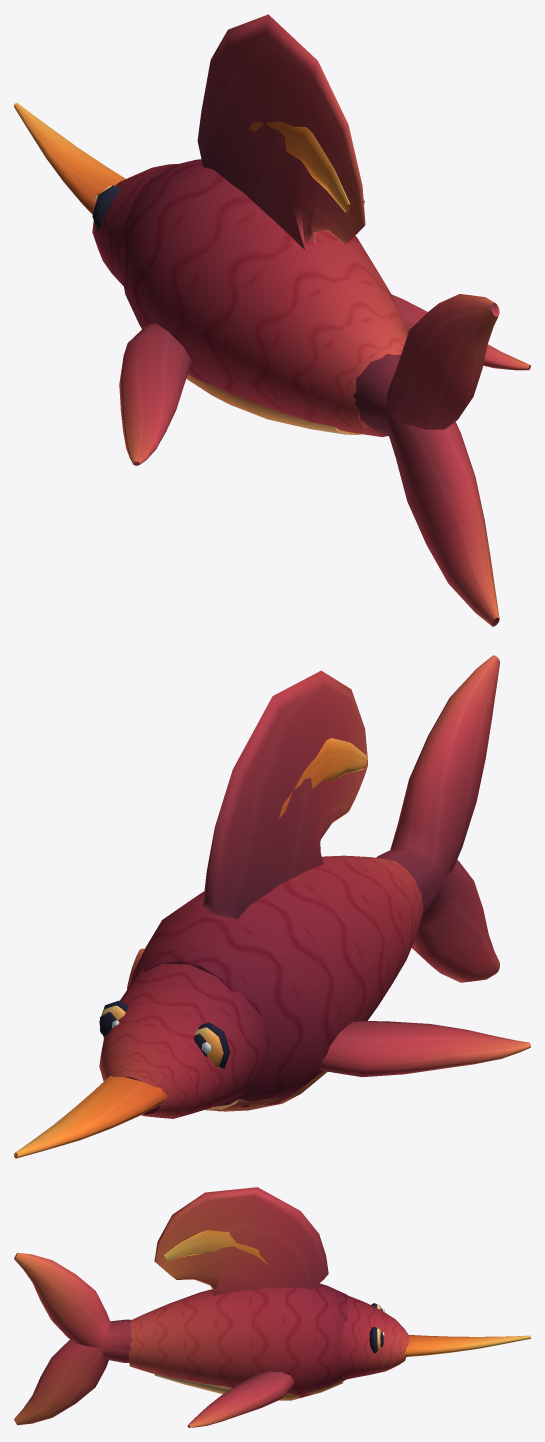
Rendered from C145_Peixe_Espada_Carmesim.glb.
The picture shows the model from 3 angles, top to bottom: view 1: azimuth 30°, elevation 25°; view 2: azimuth 150°, elevation 25°; view 3: azimuth 270°, elevation 25°; orthographic projection. The views are drawn at different scales.
Parts seen in each view (by area): view 1: Body, Tail, Fins, FinR, Extra_1, Head, Extra_2, FinL; view 2: Body, Fins, Tail, Head, FinR, Extra_1, Extra_2, Extra_3; view 3: Body, Fins, Tail, Head, FinL, Extra_1, Extra_2, Extra_3.
Part boxes in pixels (x1,y1,x2,y2): Body: (119, 159, 407, 437); Tail: (353, 294, 499, 626); Fins: (197, 14, 365, 249); FinR: (119, 323, 191, 465); Extra_1: (14, 102, 125, 214); Head: (92, 164, 177, 285); Extra_2: (249, 121, 364, 212); FinL: (392, 294, 530, 370); Body: (130, 855, 423, 1111); Fins: (203, 670, 367, 919); Tail: (376, 655, 499, 982); Head: (99, 963, 269, 1118); FinR: (319, 1020, 530, 1077); Extra_1: (14, 1076, 168, 1158); Extra_2: (279, 738, 367, 818); Extra_3: (99, 1000, 229, 1068); Body: (128, 1283, 347, 1400); Fins: (154, 1187, 328, 1295); Tail: (14, 1253, 132, 1425); Head: (338, 1295, 409, 1379); FinL: (187, 1371, 294, 1427); Extra_1: (404, 1335, 530, 1356); Extra_2: (164, 1230, 268, 1265); Extra_3: (369, 1303, 384, 1353).
Bounding box in the file's own units: 0.4164 × 0.4468 × 0.8792.
Materials: 1 (1 with a texture image).
